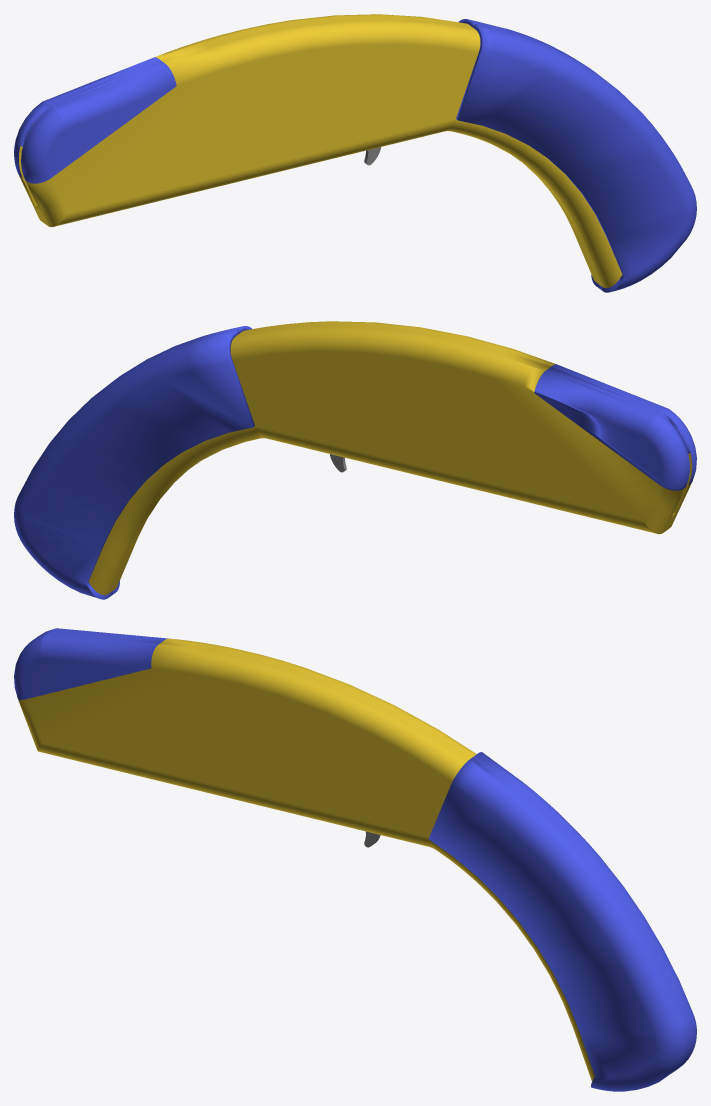
Rendered from Gravity_cutter.glb.
The picture shows the model from 3 angles, top to bottom: view 1: azimuth 30°, elevation 25°; view 2: azimuth 150°, elevation 25°; view 3: azimuth 330°, elevation 25°; orthographic projection.
Parts seen in each view (by area): view 1: Body5.001, Body1.028, Body1.001; view 2: Body1.001, Body1.028, Body5.001; view 3: Body5.001, Body1.028, Body1.001.
Boxes of the visible parts, left/top/right/bottom form: Body5.001: left=21, top=19, right=622, bottom=288; Body1.028: left=456, top=19, right=696, bottom=292; Body1.001: left=14, top=14, right=599, bottom=284; Body1.001: left=88, top=324, right=690, bottom=595; Body1.028: left=14, top=326, right=254, bottom=599; Body5.001: left=113, top=321, right=696, bottom=590; Body5.001: left=14, top=633, right=594, bottom=1081; Body1.028: left=428, top=752, right=696, bottom=1091; Body1.001: left=36, top=628, right=476, bottom=759.
Size of the model in its own units: 0.1694 by 0.0822 by 0.013.
